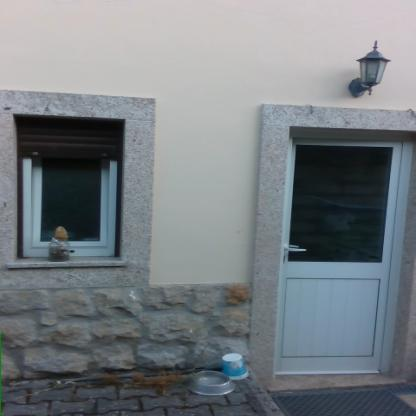closed: (249, 106, 416, 387)
